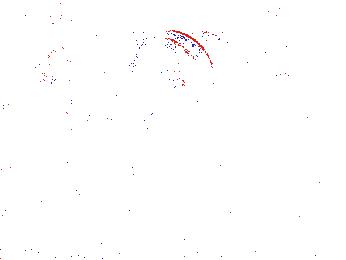moon jellyfish: (206, 1, 308, 77), (133, 30, 215, 122), (39, 45, 126, 104), (284, 3, 346, 71), (66, 4, 158, 39), (13, 12, 67, 71)
